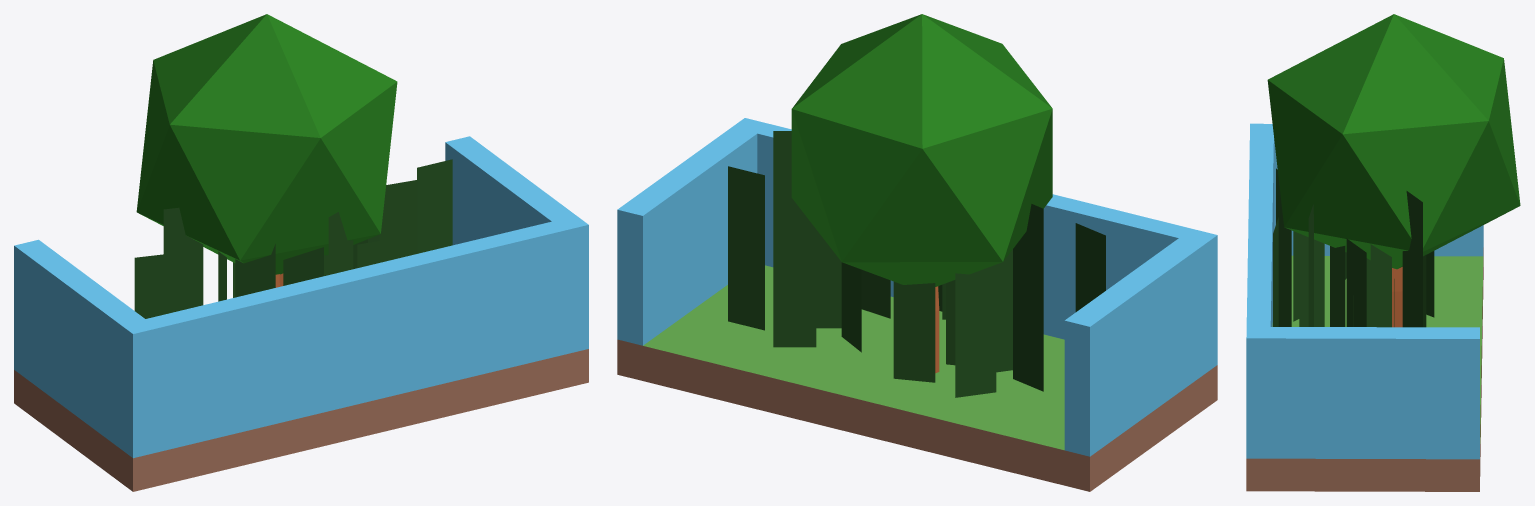
The model's file is 3d_icons_balkon.fbx.
The picture shows the model from 3 angles, left to right: view 1: azimuth 30°, elevation 25°; view 2: azimuth 150°, elevation 25°; view 3: azimuth 270°, elevation 25°; orthographic projection. The views are drawn at different scales.
Parts seen in each view (by area): view 1: balkon; view 2: balkon; view 3: balkon.
Boxes of the visible parts, bbox=[...] form: balkon: bbox=[14, 14, 588, 491]; balkon: bbox=[617, 14, 1217, 491]; balkon: bbox=[1246, 14, 1520, 491].
Size of the model in its own units: 182 by 142 by 97.95.
